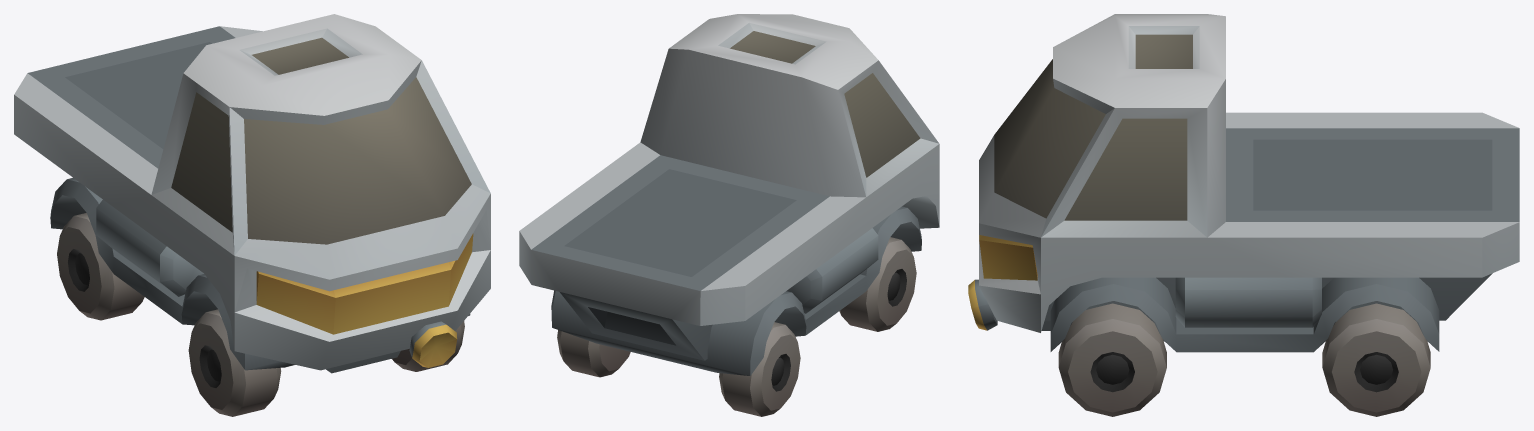
File: space-spacetruck.glb
The picture shows the model from 3 angles, left to right: view 1: azimuth 30°, elevation 25°; view 2: azimuth 150°, elevation 25°; view 3: azimuth 270°, elevation 25°; orthographic projection. The views are drawn at different scales.
Parts seen in each view (by area): view 1: spacetruck, spacetruck_wheel_front_right, spacetruck_wheel_rear_right, spacetruck_wheel_front_left; view 2: spacetruck, spacetruck_wheel_rear_right, spacetruck_wheel_front_right, spacetruck_wheel_rear_left; view 3: spacetruck, spacetruck_wheel_front_left, spacetruck_wheel_rear_left.
Boxes of the visible parts, box(x1,y1,x2,y2) form: spacetruck: box(14, 14, 490, 373); spacetruck_wheel_front_right: box(188, 309, 281, 416); spacetruck_wheel_rear_right: box(57, 213, 144, 320); spacetruck_wheel_front_left: box(392, 321, 464, 371); spacetruck: box(519, 14, 939, 375); spacetruck_wheel_rear_right: box(719, 322, 800, 416); spacetruck_wheel_front_right: box(839, 237, 916, 331); spacetruck_wheel_rear_left: box(557, 330, 630, 377); spacetruck: box(968, 14, 1519, 352); spacetruck_wheel_front_left: box(1058, 303, 1166, 416); spacetruck_wheel_rear_left: box(1322, 303, 1430, 416).
Size of the model in its own units: 0.4895 by 0.5662 by 0.8933.
